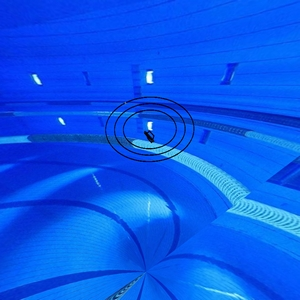circle: (102, 94, 203, 163)
submarine: (144, 130, 162, 150)
